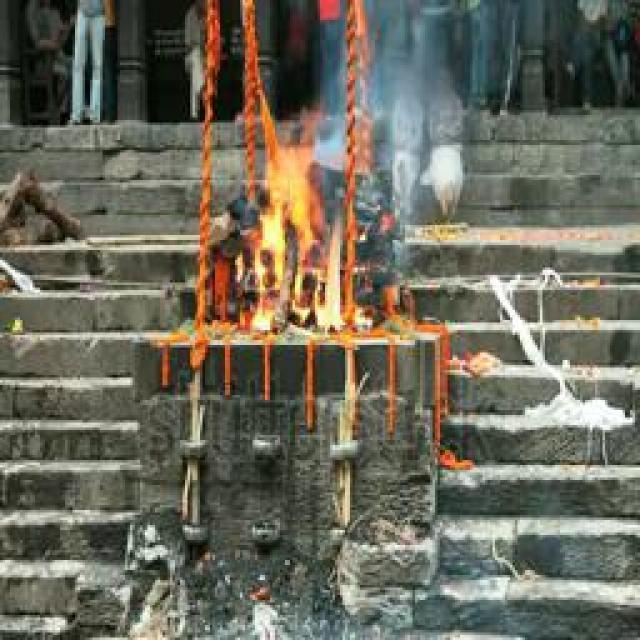Fire: (252, 108, 351, 332)
